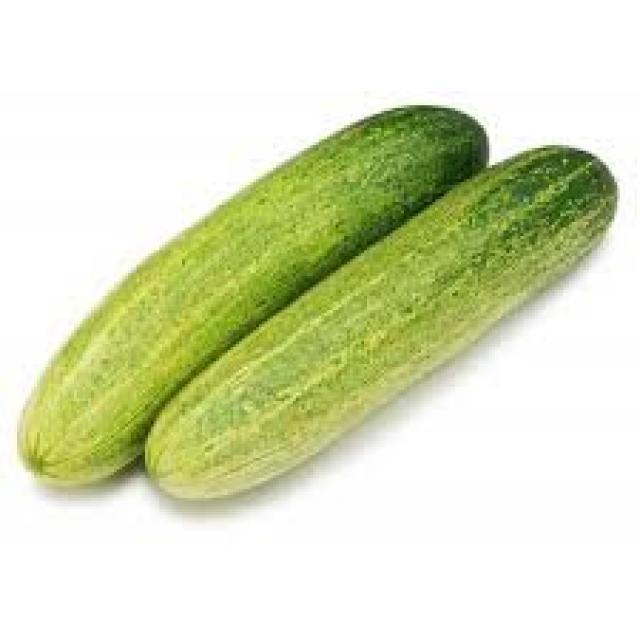cucumber: (18, 103, 620, 493)
